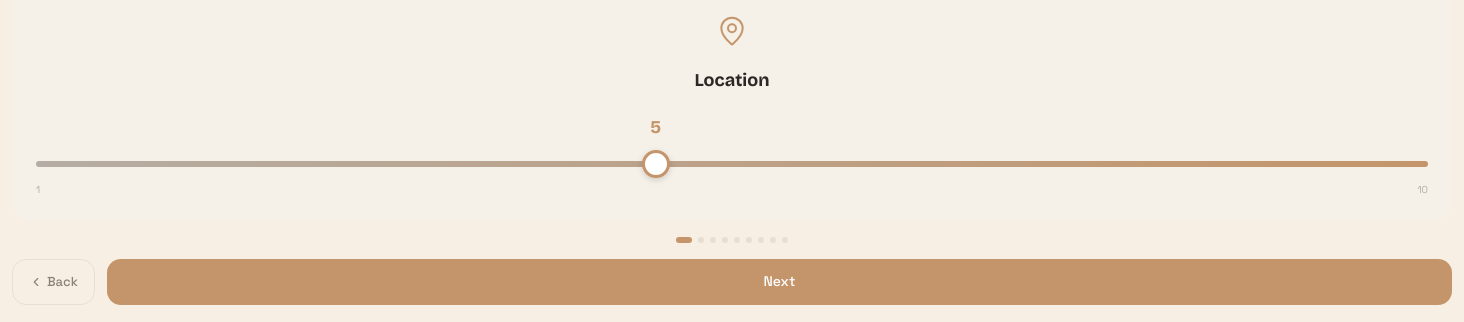
Scenario: RatingCarousel › navigates backward with prev button
# Go to card 2
Click the button with test id "next-btn" at (779, 282), box [107,259,1452,304]
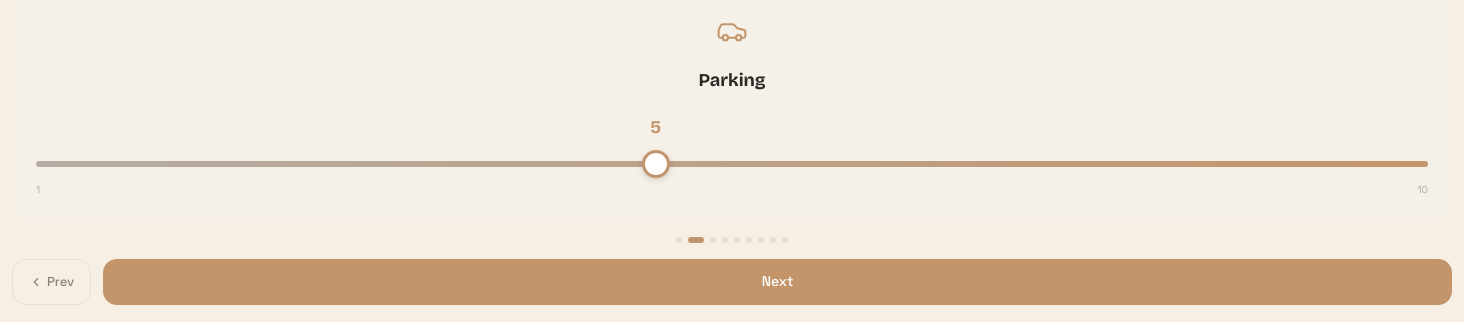
Check: the heading "Parking" is shown, box [698,67,766,94]
# Go back to card 1
Click the button with test id "prev-btn" at (52, 282), box [12,259,91,304]
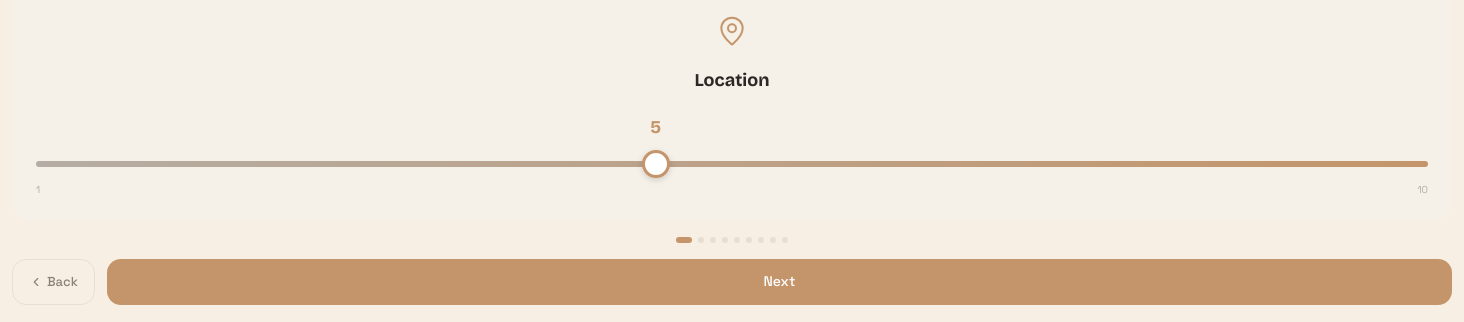
Check: the heading "Location" is shown, box [694,67,769,94]
